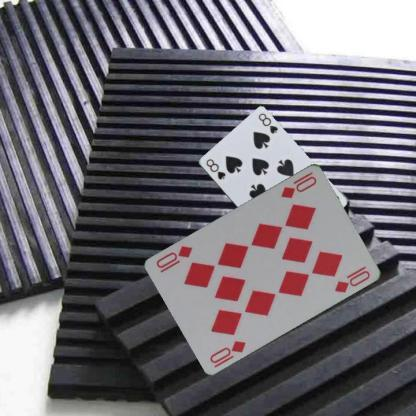10d: (278, 168, 318, 199), (207, 338, 248, 368)
8s: (204, 156, 226, 181)
